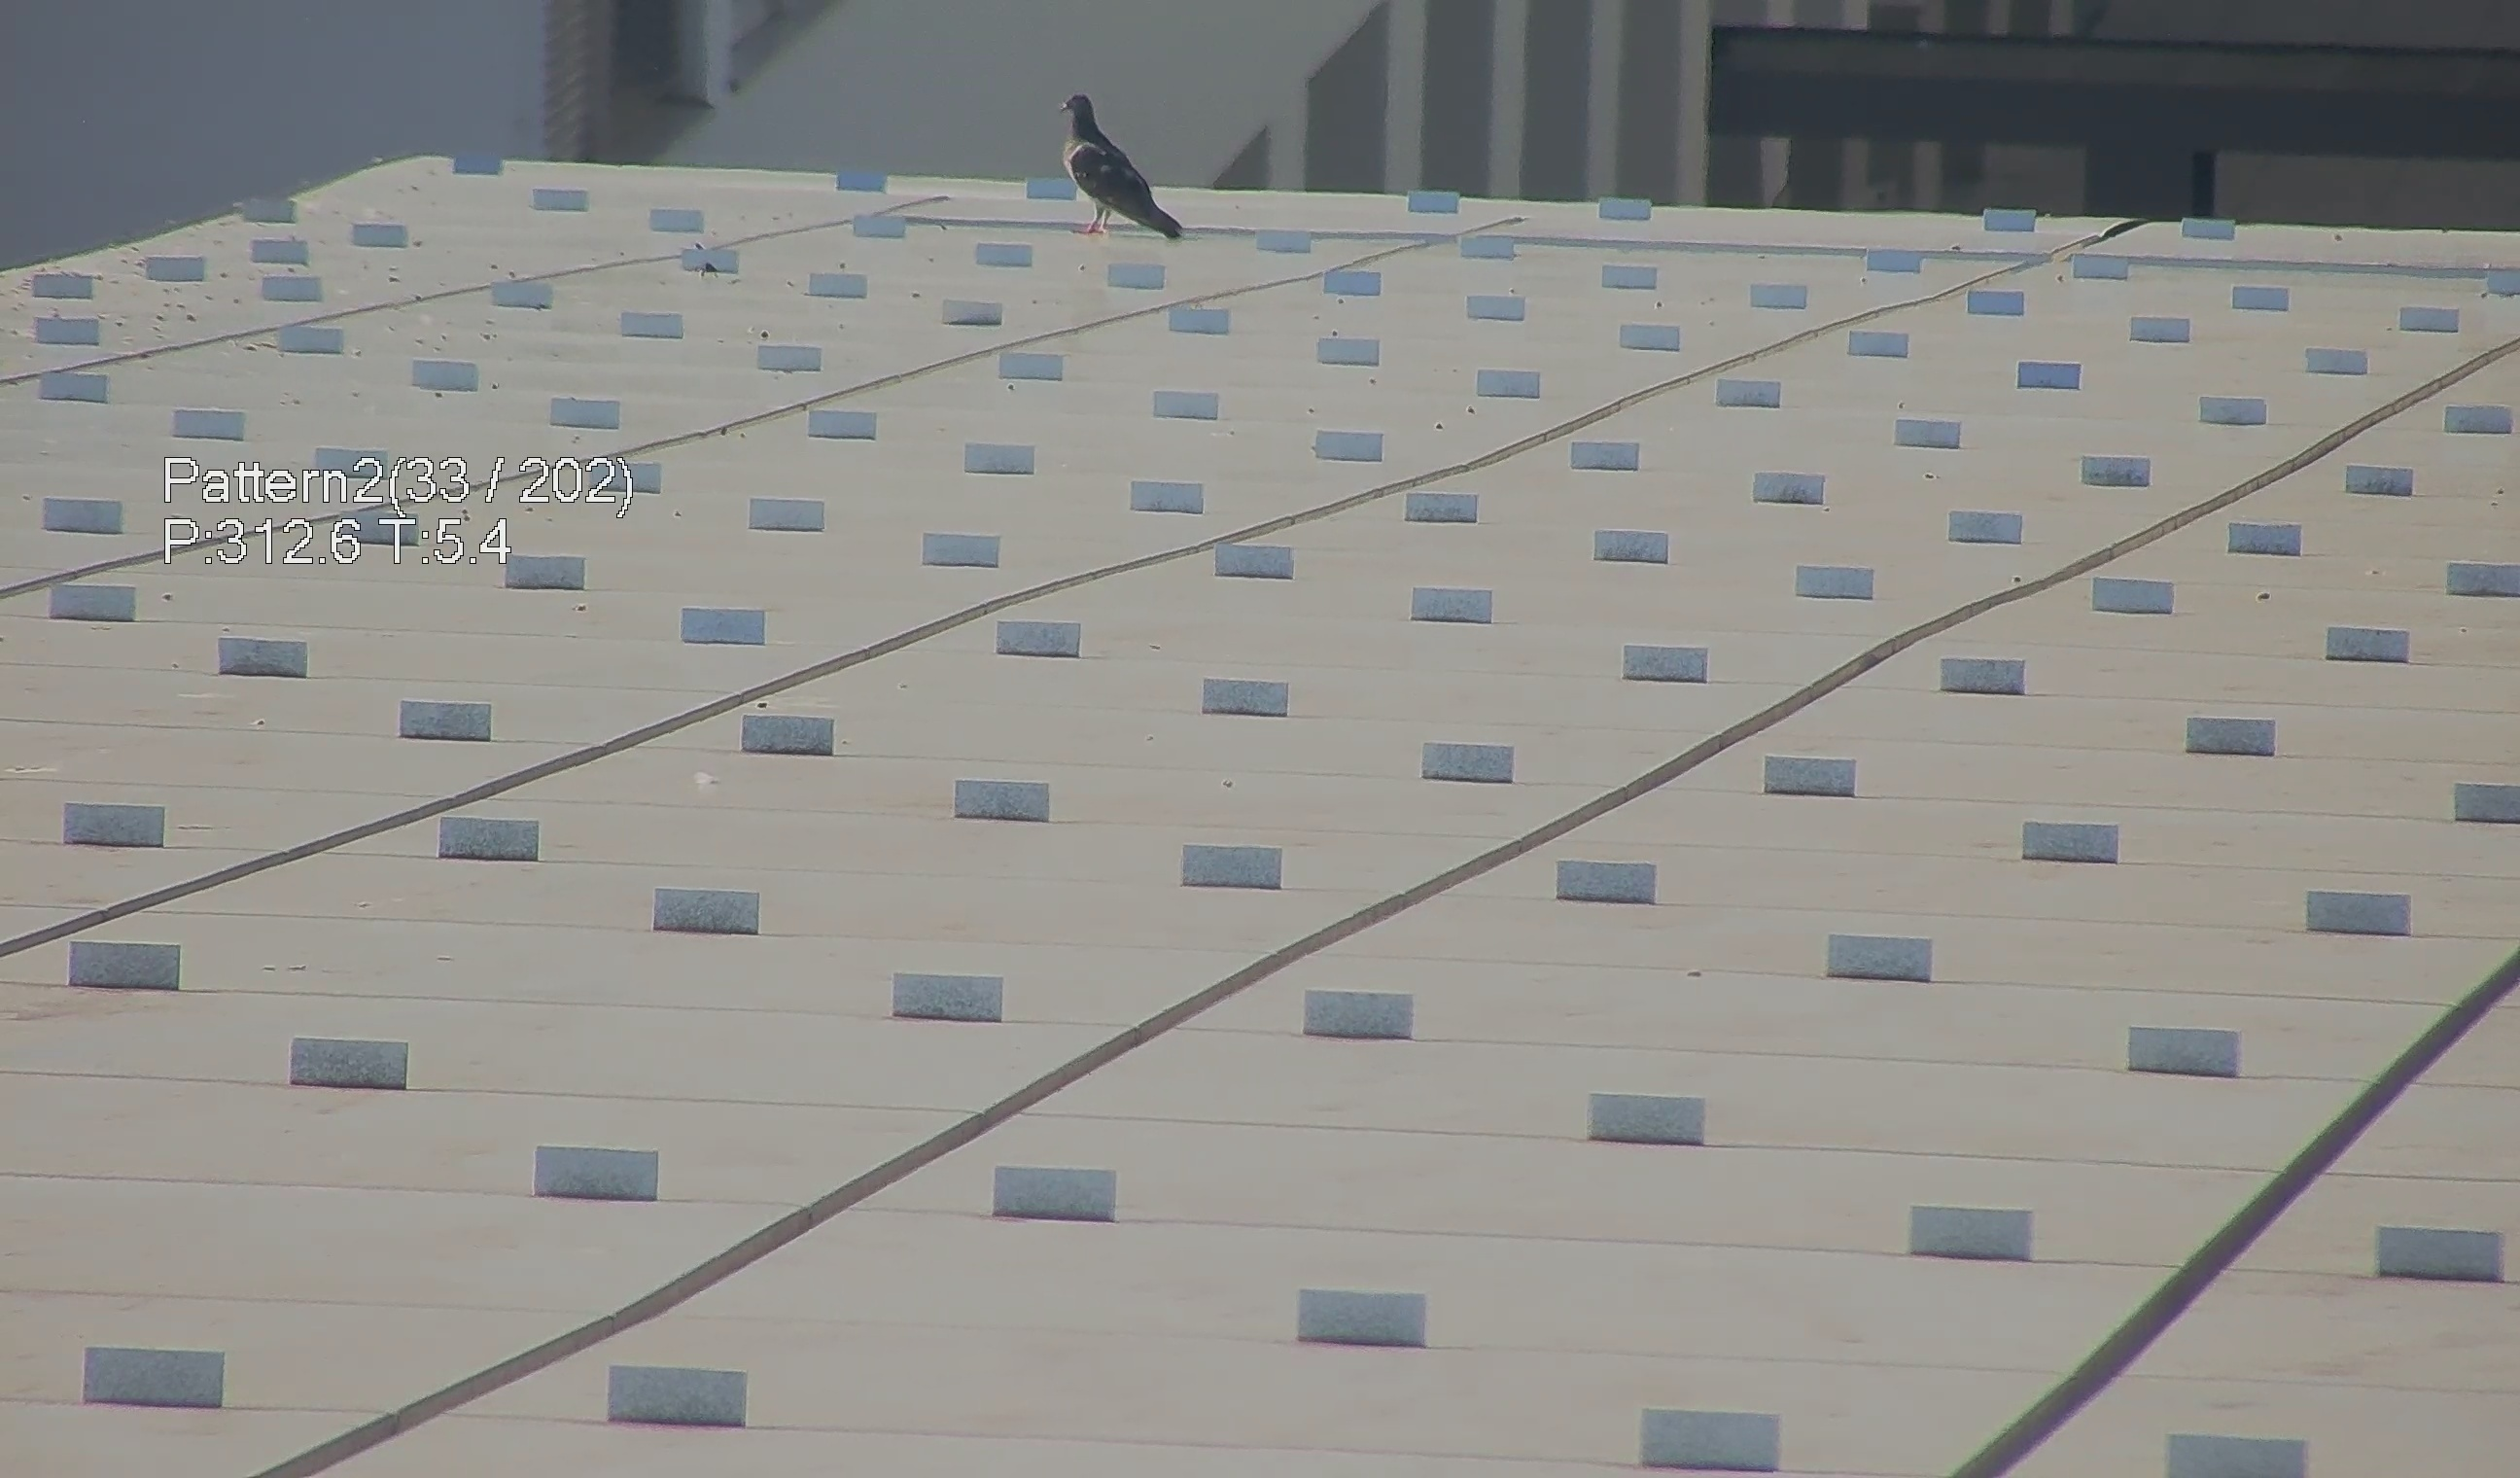Pigeon: (1043, 79, 1182, 243)
